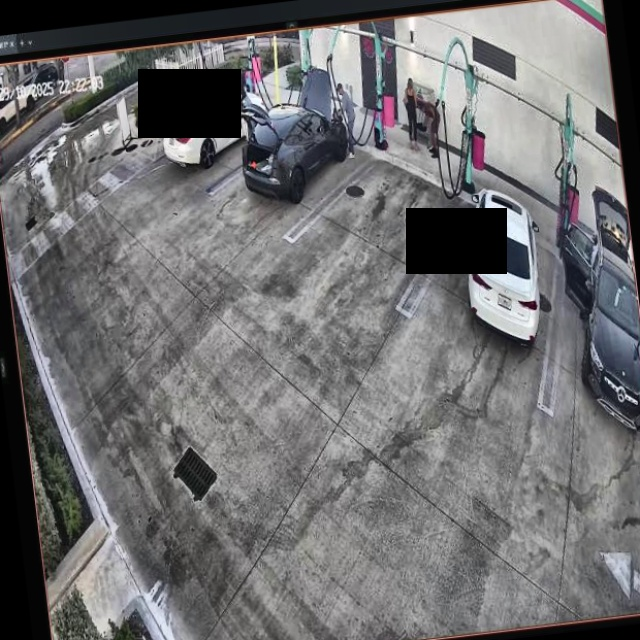Car: (453, 183, 552, 355), (235, 64, 353, 202), (158, 80, 272, 171)
